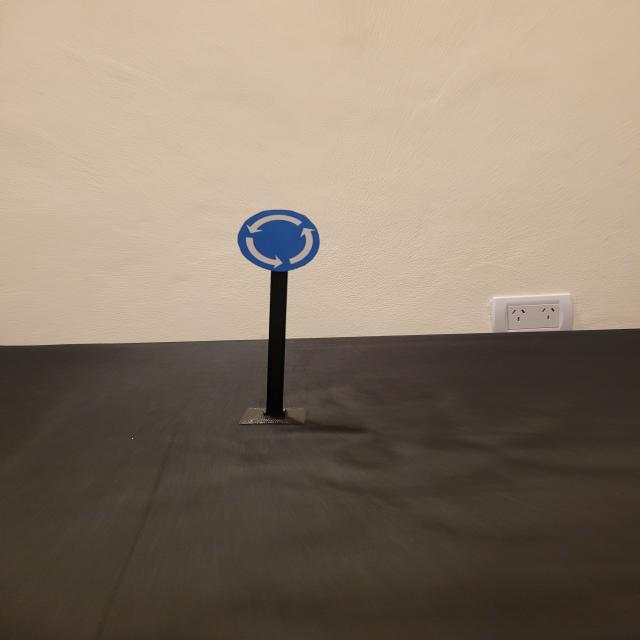round_about: (236, 209, 320, 272)
